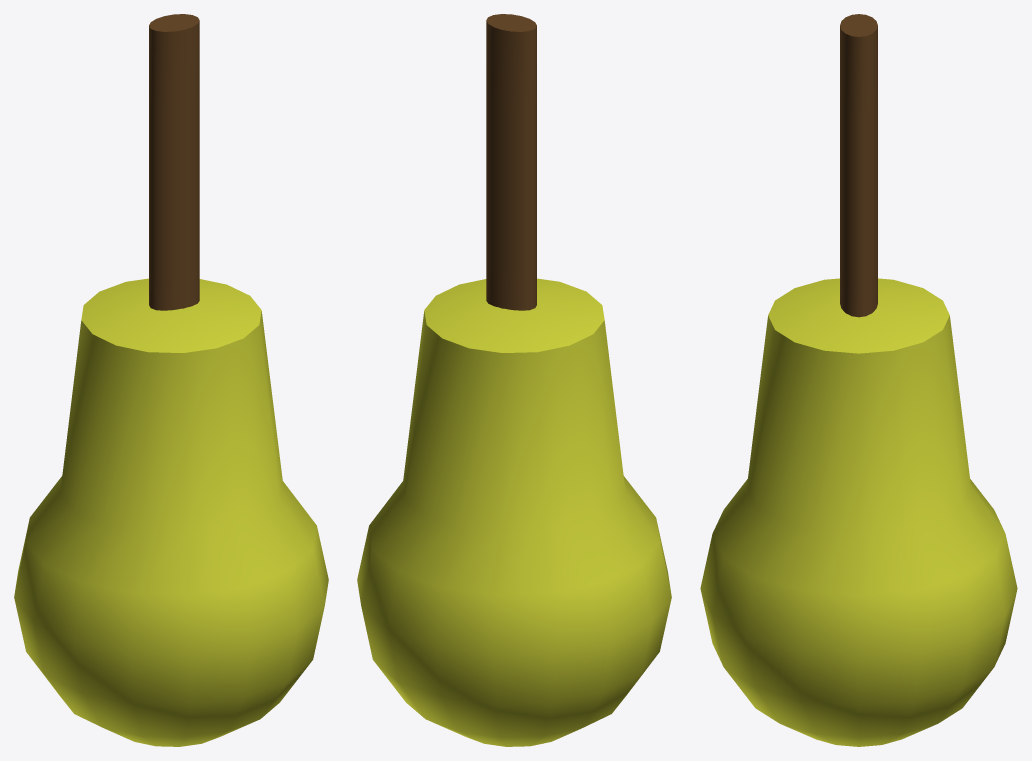
File: lights from top.fbx
3 views of the same model, side by side, from view 1: azimuth 30°, elevation 25°; view 2: azimuth 150°, elevation 25°; view 3: azimuth 270°, elevation 25° (orthographic).
Parts seen in each view (by area): view 1: Sphere, Cylinder_5; view 2: Sphere, Cylinder_5; view 3: Sphere, Cylinder_5.
Part boxes in pixels (bbox=[...]): Sphere: bbox=[14, 278, 328, 746]; Cylinder_5: bbox=[149, 14, 199, 310]; Sphere: bbox=[357, 278, 671, 746]; Cylinder_5: bbox=[486, 14, 536, 310]; Sphere: bbox=[700, 278, 1017, 746]; Cylinder_5: bbox=[840, 14, 877, 317].
Bounding box in the file's own units: 31.11 × 76.63 × 31.11.
